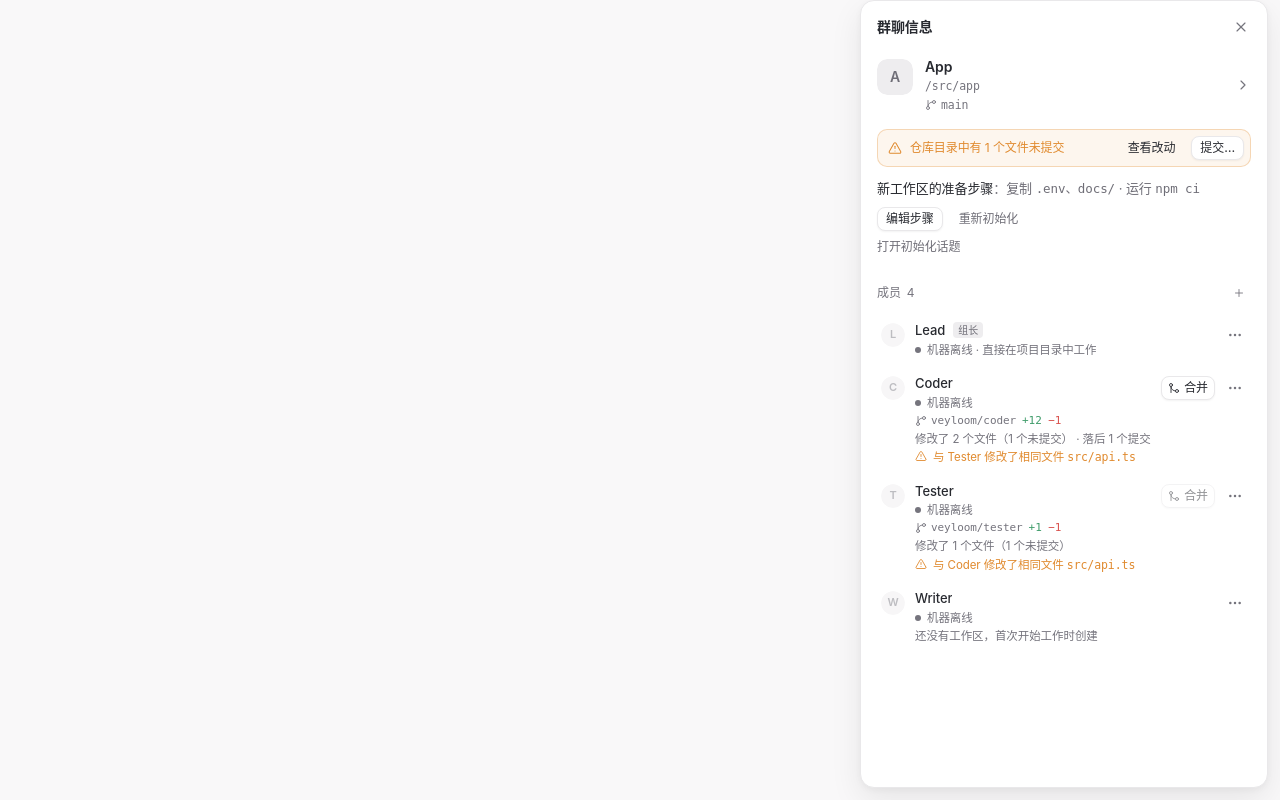
the checkout in the chat’s info › says why a merge was refused apart from its message, and goes on to commit what is in the way
Click the 1st button "合并": (1188, 388) [1161, 376, 1215, 400]
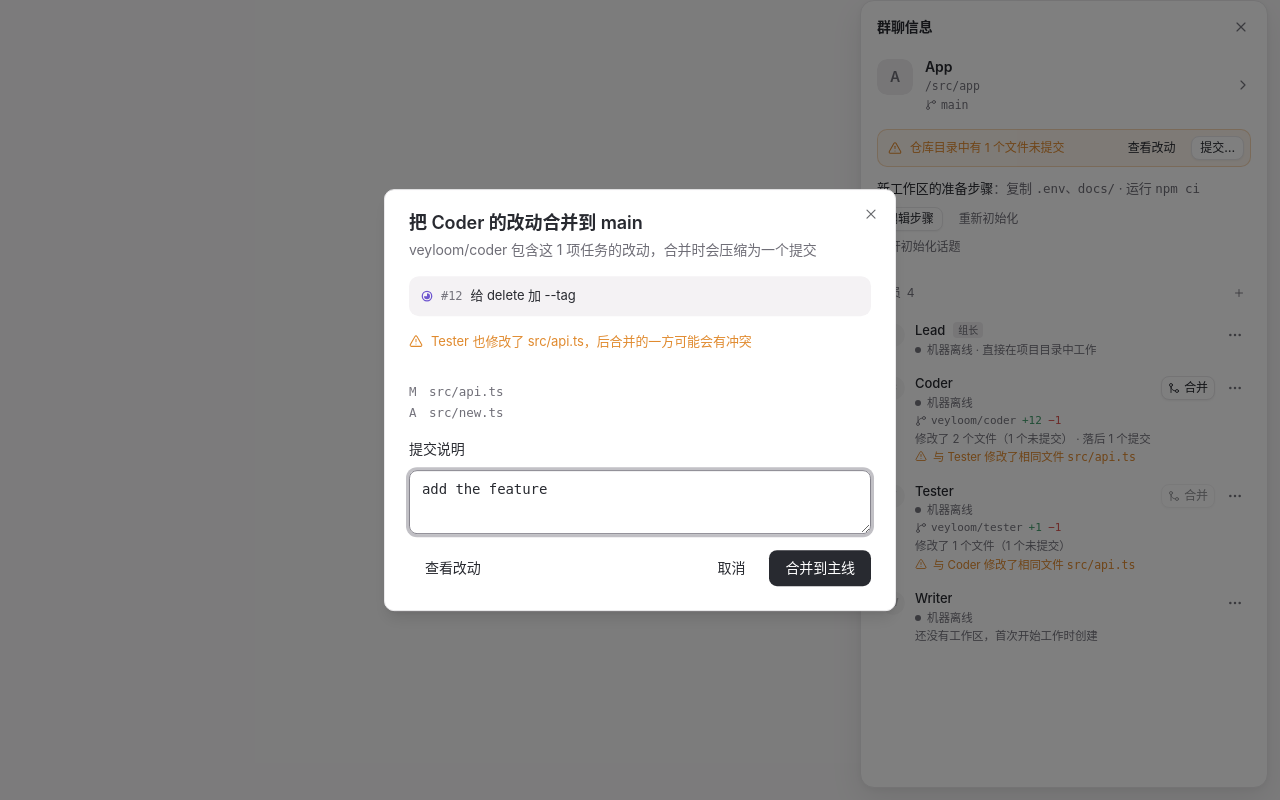
Click the button "合并到主线": (820, 568) [769, 550, 871, 586]
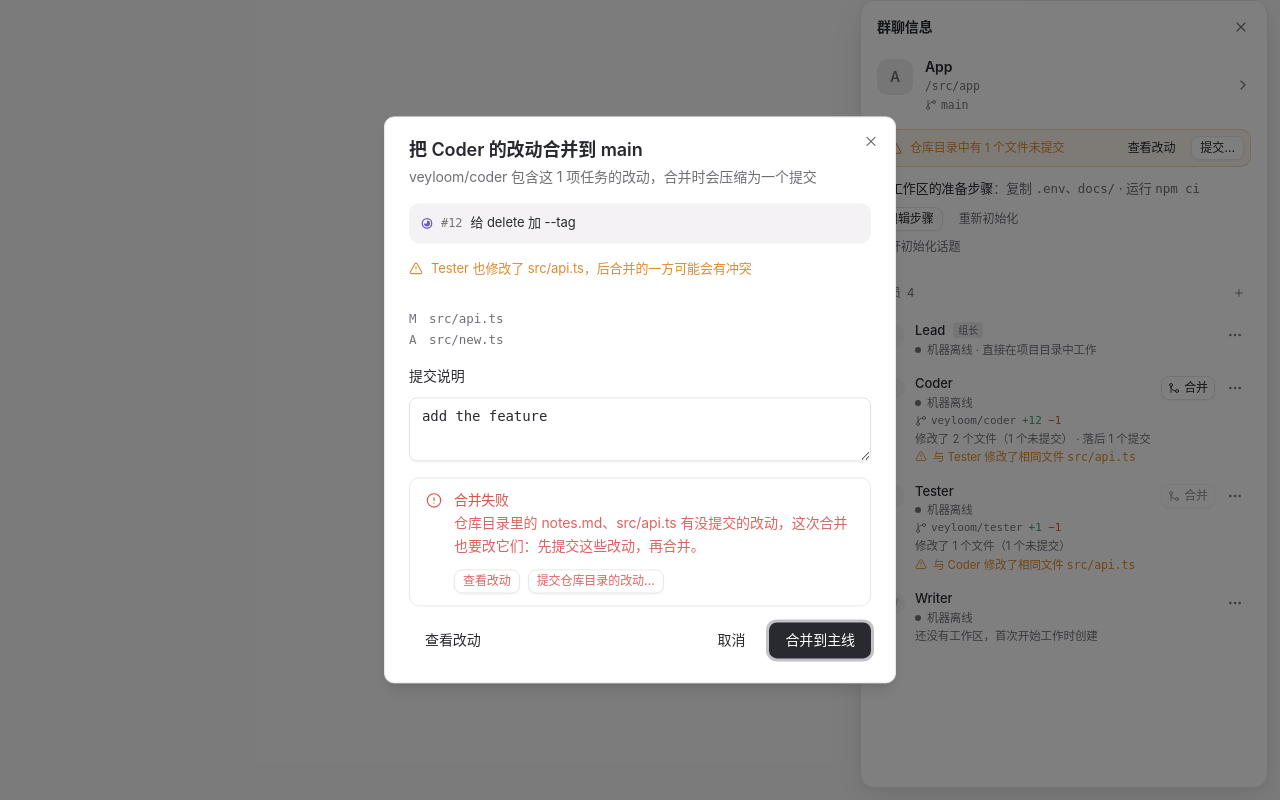
Expected: the message shows "合并失败", [454, 491, 509, 508]
Expected: the message shows "仓库目录里的 notes.md、src/api.ts 有没提交的改动，这次合并也要改它们：先提交这些改动，再合并。", [454, 514, 848, 554]
Click the button "提交仓库目录的改动…": (596, 582) [528, 570, 664, 594]
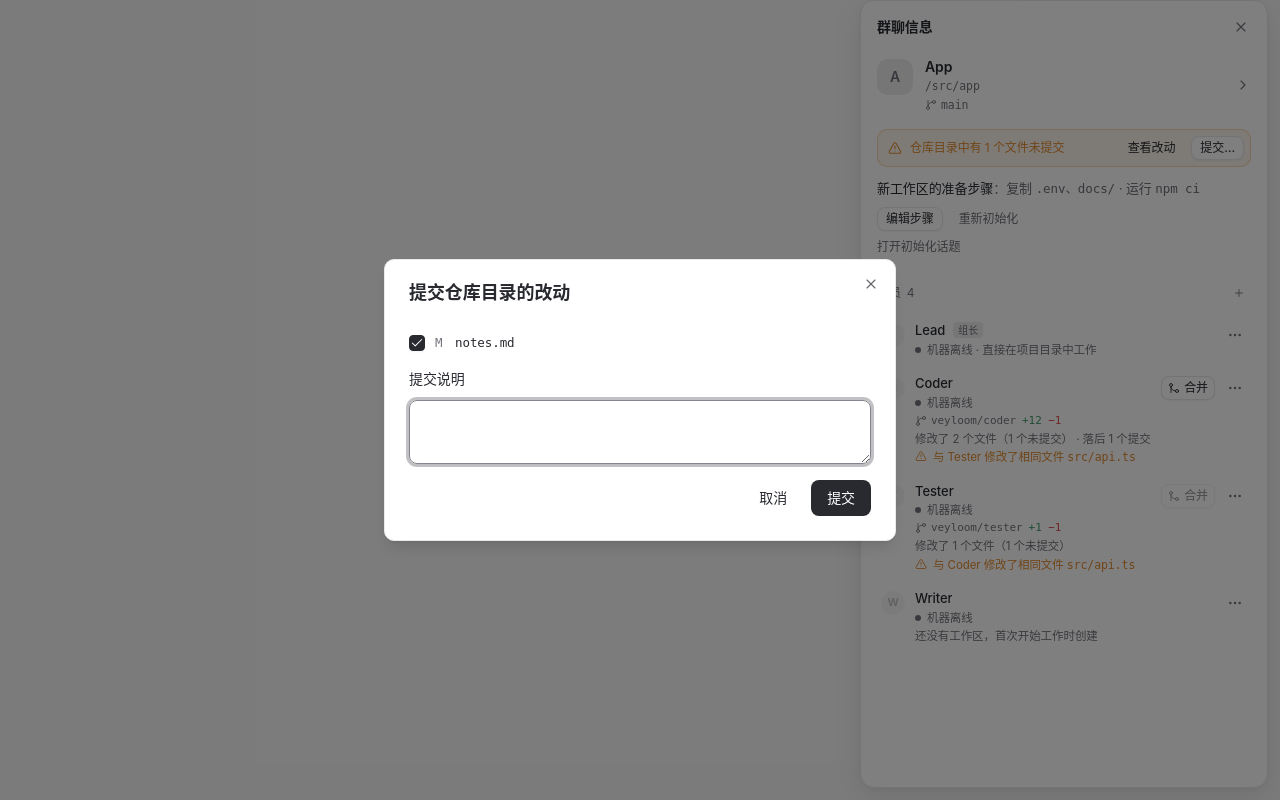
Expected: the dialog "提交仓库目录的改动" is shown, [384, 259, 896, 541]
Expected: the heading "把 Coder 的改动合并到 main" is gone
